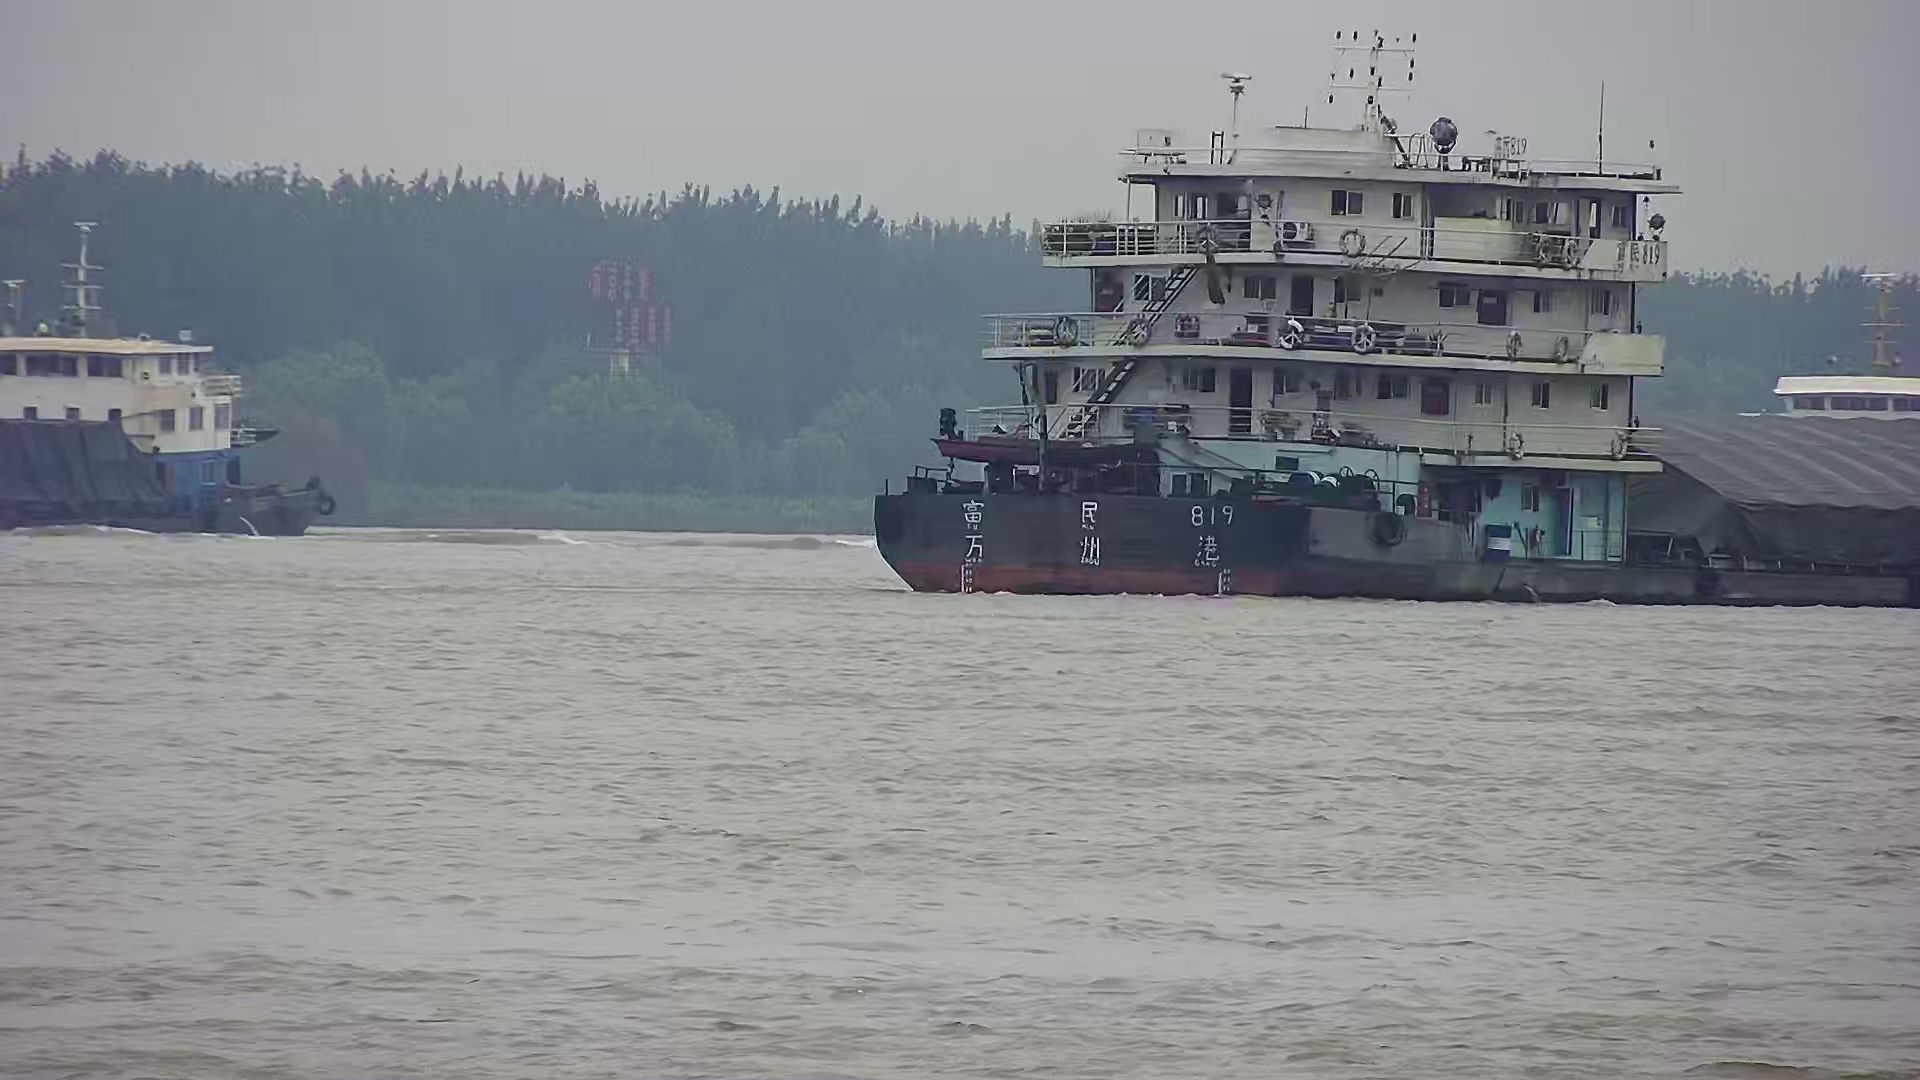ship: (873, 22, 1919, 613), (1, 196, 340, 541)
